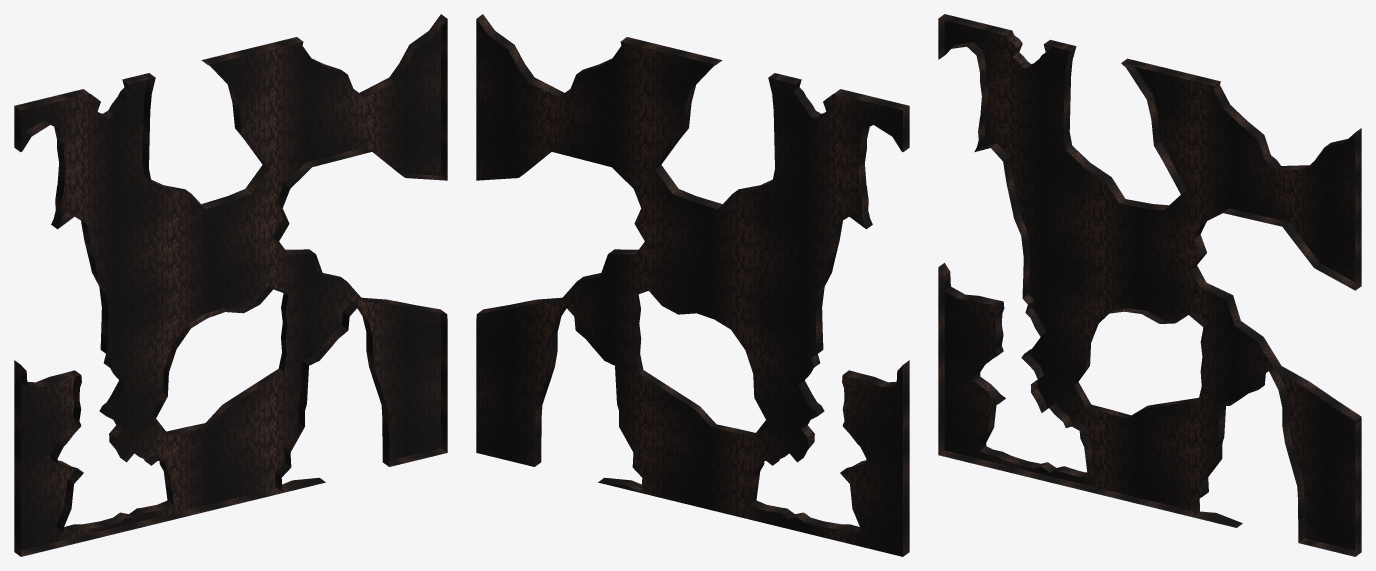
The model's file is Room4-BG3.fbx.
The picture shows the model from 3 angles, left to right: view 1: azimuth 30°, elevation 25°; view 2: azimuth 150°, elevation 25°; view 3: azimuth 330°, elevation 25°; orthographic projection. The views are drawn at different scales.
Parts seen in each view (by area): view 1: pPlane7; view 2: pPlane7; view 3: pPlane7.
Part boxes in pixels (bbox=[...]): pPlane7: bbox=[14, 14, 447, 556]; pPlane7: bbox=[476, 14, 909, 556]; pPlane7: bbox=[938, 14, 1361, 556].
Size of the model in its own units: 14.38 by 14.38 by 0.3822.
